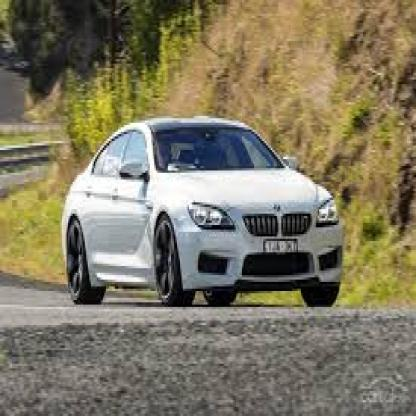car: (60, 112, 362, 326)
